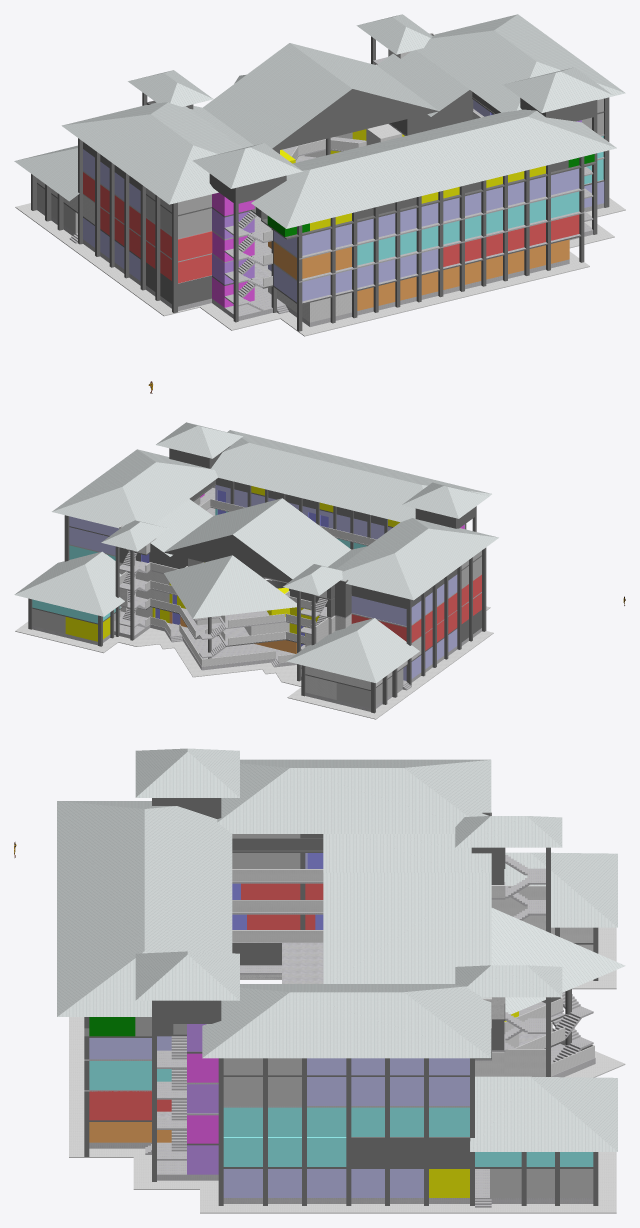
File: Annex 1.glb
The picture shows the model from 3 angles, top to bottom: view 1: azimuth 30°, elevation 25°; view 2: azimuth 150°, elevation 25°; view 3: azimuth 270°, elevation 25°; orthographic projection. The views are drawn at different scales.
Parts seen in each view (by area): view 1: Roof wing#1, Roof wing (×2), object 155, Column#2 (×13), Roof tanki air (×2), object 4, Column#1 (×8), Roof tanki air#1, object 12, object 65, object 191, object 107 (+33 smaller); view 2: Roof wing (×2), object 155, Roof wing#1, object 71, object 4, Roof tanki air (×2), object 70, object 12, Roof tanki air#1, object 50, object 114, object 191 (+27 smaller); view 3: Roof wing (×2), Roof wing#1, object 155, Roof tanki air (×2), object 4, object 70, Roof tanki air#1, object 192, object 71, Column#1 (×7), object 5, object 12 (+38 smaller).
Boxes of the visible parts, bbox=[...] form: Roof wing#1: bbox=[251, 109, 616, 228]; Roof wing (×2): bbox=[61, 14, 625, 204]; object 155: bbox=[203, 43, 438, 151]; Column#2 (×13): bbox=[233, 116, 597, 331]; Roof tanki air (×2): bbox=[192, 67, 613, 204]; object 4: bbox=[15, 198, 625, 336]; Column#1 (×8): bbox=[78, 97, 609, 312]; Roof tanki air#1: bbox=[128, 14, 432, 106]; object 12: bbox=[37, 203, 604, 326]; object 65: bbox=[268, 249, 438, 302]; object 191: bbox=[377, 50, 472, 117]; object 107: bbox=[273, 203, 438, 256]; Roof wing (×2): bbox=[52, 449, 498, 600]; object 155: bbox=[164, 498, 351, 618]; Roof wing#1: bbox=[211, 430, 491, 522]; object 71: bbox=[286, 618, 419, 683]; object 4: bbox=[15, 577, 493, 719]; Roof tanki air (×2): bbox=[156, 422, 489, 528]; object 70: bbox=[14, 551, 124, 616]; object 12: bbox=[32, 580, 481, 711]; Roof tanki air#1: bbox=[101, 520, 342, 595]; object 50: bbox=[120, 589, 421, 689]; object 114: bbox=[351, 574, 457, 626]; object 191: bbox=[150, 499, 212, 557]; Roof wing (×2): bbox=[202, 759, 491, 1058]; Roof wing#1: bbox=[57, 801, 232, 1016]; object 155: bbox=[323, 872, 625, 1014]; Roof tanki air (×2): bbox=[135, 748, 239, 1023]; object 4: bbox=[69, 927, 625, 1213]; object 70: bbox=[470, 1076, 617, 1151]; Roof tanki air#1: bbox=[455, 816, 562, 997]; object 192: bbox=[323, 834, 491, 872]; object 71: bbox=[504, 852, 617, 927]; Column#1 (×7): bbox=[218, 1058, 474, 1205]; object 5: bbox=[223, 1169, 423, 1197]; object 12: bbox=[89, 965, 595, 1203].
Size of the model in its own units: 76.17 by 21.21 by 55.13.
21 materials, 3 textured.
